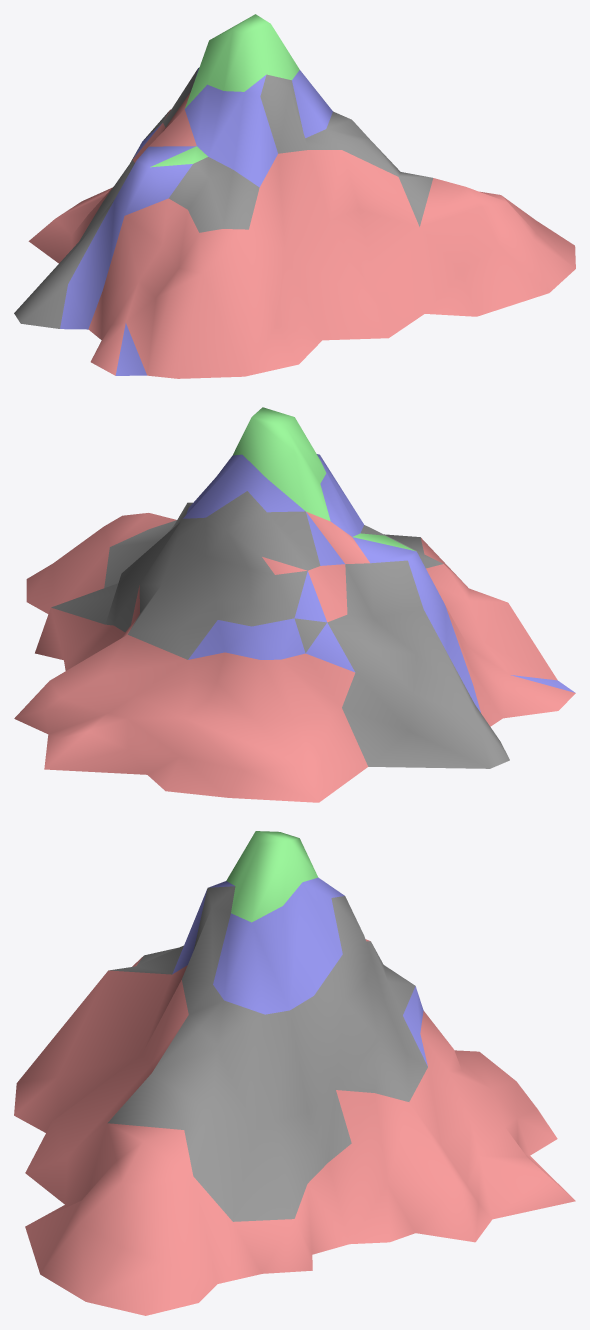
3 renders of one model, top to bottom at view 1: azimuth 30°, elevation 25°; view 2: azimuth 150°, elevation 25°; view 3: azimuth 270°, elevation 25°, orthographic. The views are drawn at different scales.
Parts seen in each view (by area): view 1: O_DE_MT_obj01; view 2: O_DE_MT_obj01; view 3: O_DE_MT_obj01.
Part boxes in pixels (x1=…): O_DE_MT_obj01: x1=14, y1=14, x2=575, y2=378; O_DE_MT_obj01: x1=14, y1=407, x2=575, y2=802; O_DE_MT_obj01: x1=14, y1=831, x2=575, y2=1315.
Bounding box in the file's own units: 58.96 × 28.73 × 46.37.
